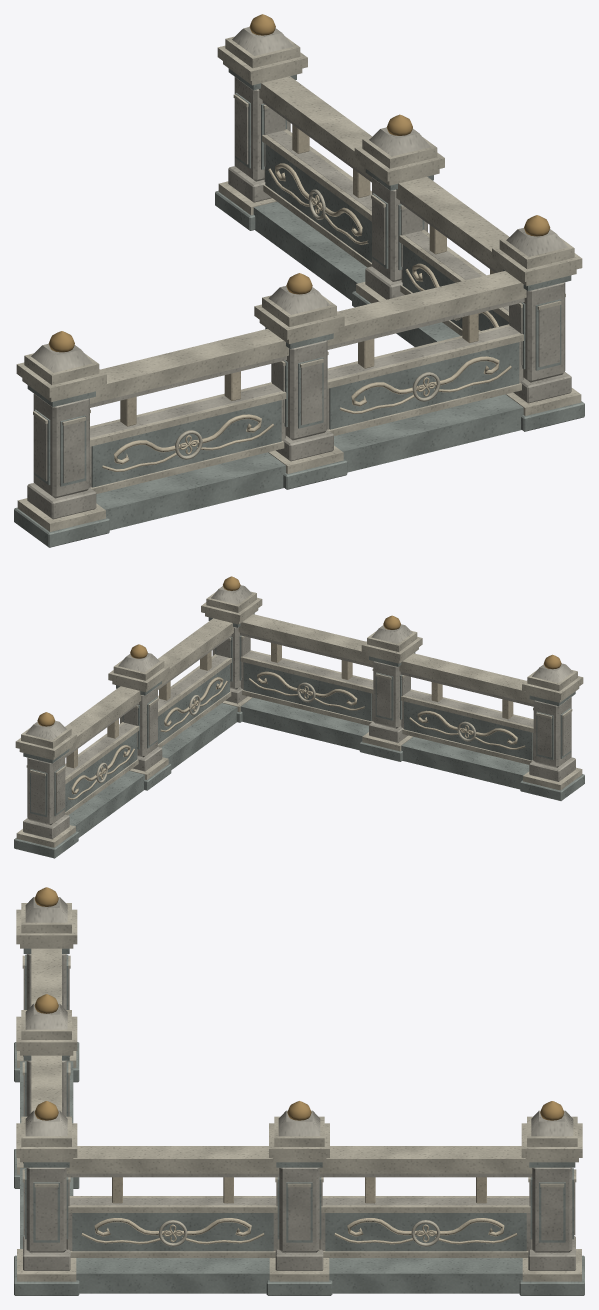
3 renders of one model, top to bottom at view 1: azimuth 30°, elevation 25°; view 2: azimuth 150°, elevation 25°; view 3: azimuth 270°, elevation 25°, orthographic. The views are drawn at different scales.
Parts seen in each view (by area): view 1: D04_light, D04_cool, D04_stone, D04_relief, D04_motif; view 2: D04_cool, D04_light, D04_stone, D04_relief, D04_motif; view 3: D04_cool, D04_light, D04_stone, D04_relief, D04_motif.
Boxes of the visible parts, x1,y1,x2,y2 form: D04_light: (16,36,582,531); D04_cool: (14,68,584,547); D04_stone: (27,27,571,519); D04_relief: (102,124,511,471); D04_motif: (48,14,550,352); D04_cool: (14,613,584,858); D04_light: (15,591,583,847); D04_stone: (23,585,575,839); D04_relief: (66,643,525,799); D04_motif: (37,576,561,726); D04_cool: (14,948,584,1295); D04_light: (16,903,582,1281); D04_stone: (23,897,575,1270); D04_relief: (81,1177,517,1244); D04_motif: (34,887,564,1120).
Bounding box in the file's own units: 3.84 × 1.35 × 3.84.
5 materials, 4 textured.
